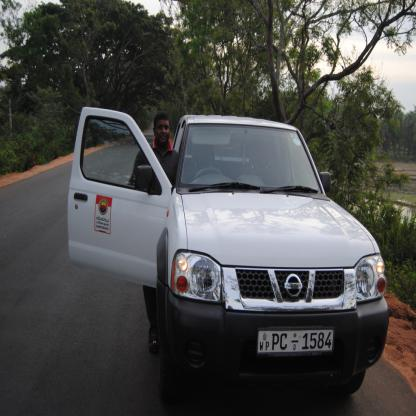Car: (68, 107, 389, 394)
